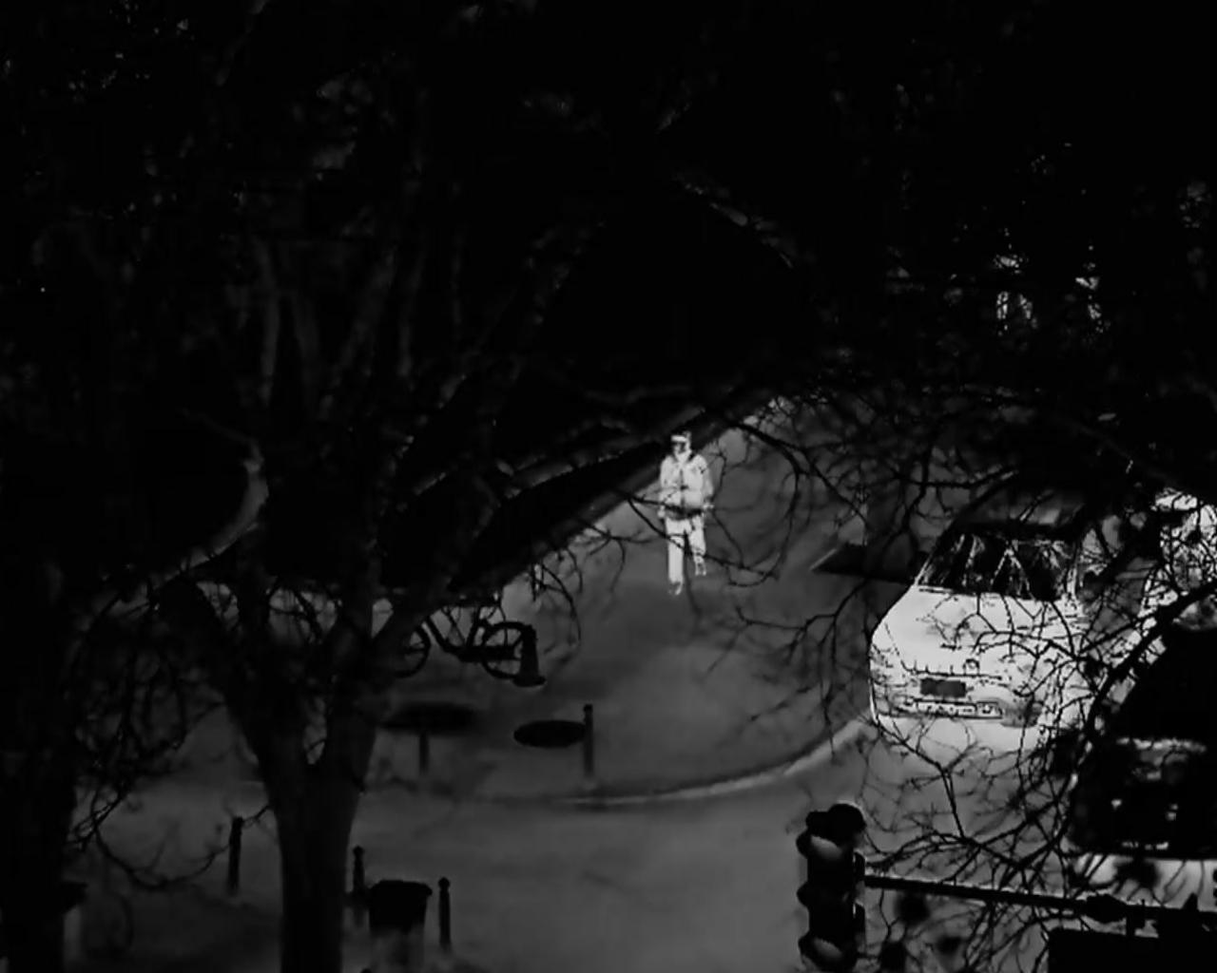person: (656, 428, 716, 598)
